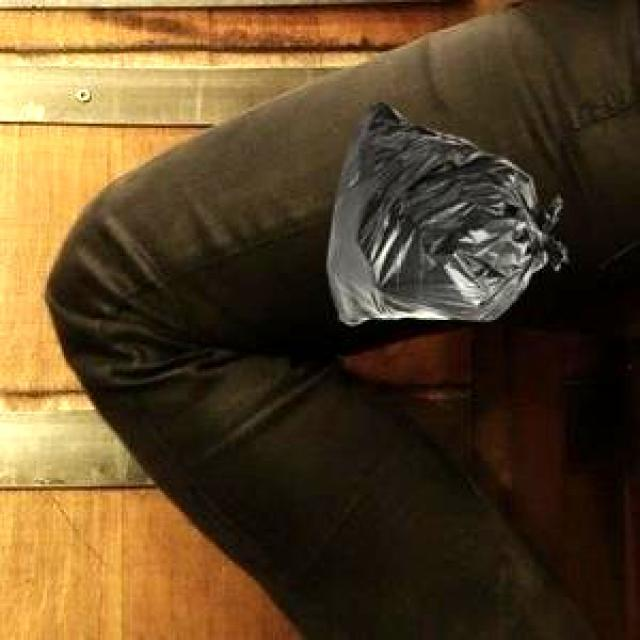Garbage_Bag: (326, 99, 564, 321)
